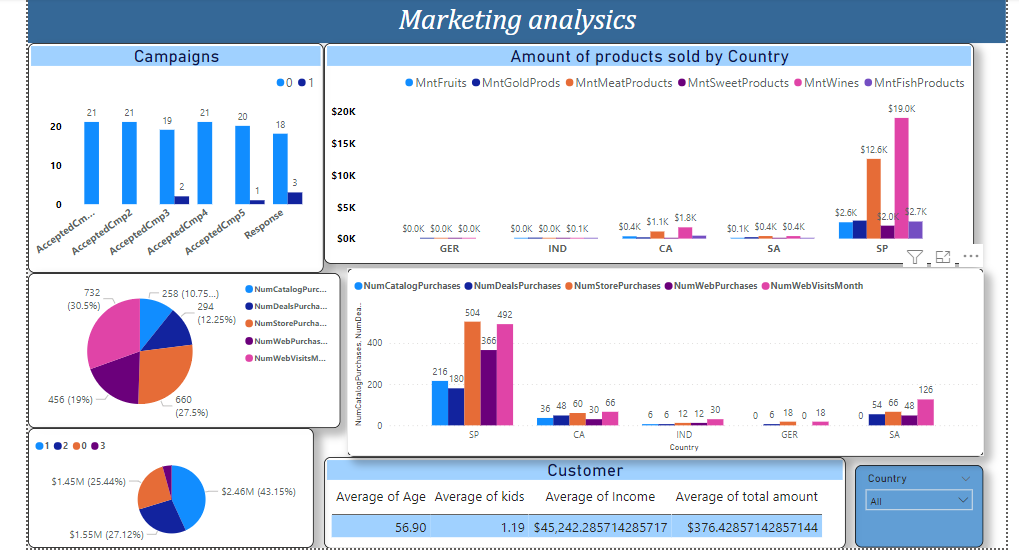

This screenshot's page, from the dashboard's own definition file:
{"tool":"powerbi","page":{"name":"Page 1","canvas":[1280,720],"ordinal":0},"visuals":[{"type":"textbox","box":[0,0,1280.2,59],"z":0},{"type":"clusteredColumnChart","title":"Campaigns","fields":{"Category":["market.Attribute"],"Y":["CountNonNull(market.Value)"],"Series":["market.Value"]},"box":[0,59,387.4,301],"z":1000},{"type":"tableEx","title":"Customer","fields":{"Values":["Avg(market.Age)","Avg(market.kids)","Avg(market.Income)","Avg(market.total amount)"]},"box":[387.4,600.5,682.6,119.5],"z":2000},{"type":"slicer","title":"Campaigns","fields":{"Values":["market.Country"]},"box":[1082.9,612,168.5,108],"z":3000},{"type":"clusteredColumnChart","title":"Amount of products sold by Country","fields":{"Category":["market.Country"],"Y":["Sum(market.MntFruits)","Sum(market.MntGoldProds)","Sum(market.MntMeatProducts)","Sum(market.MntSweetProducts)","Sum(market.MntWines)","Sum(market.MntFishProducts)"]},"box":[387.4,59,851,289.4],"z":4000},{"type":"pieChart","title":"Campaigns","fields":{"Y":["Sum(market.NumCatalogPurchases)","Sum(market.NumDealsPurchases)","Sum(market.NumStorePurchases)","Sum(market.NumWebPurchases)","Sum(market.NumWebVisitsMonth)"]},"box":[0,360,409,203],"z":5000},{"type":"clusteredColumnChart","title":"Campaigns","fields":{"Y":["Sum(market.NumCatalogPurchases)","Sum(market.NumDealsPurchases)","Sum(market.NumStorePurchases)","Sum(market.NumWebPurchases)","Sum(market.NumWebVisitsMonth)"],"Category":["market.Country"]},"box":[417,353,834,247],"z":6000},{"type":"pieChart","title":"Campaigns","fields":{"Y":["Sum(market.Income)"],"Category":["market.kids"]},"box":[0,563,374.4,157],"z":7000}]}

Visuals, with their boxes in screenshot pixels (x1, y1, x2, y2):
textbox: (left=24, top=0, right=996, bottom=42)
"Campaigns" clusteredColumnChart: (left=24, top=42, right=318, bottom=271)
"Customer" tableEx: (left=318, top=454, right=837, bottom=544)
"Campaigns" slicer: (left=847, top=462, right=975, bottom=544)
"Amount of products sold by Country" clusteredColumnChart: (left=318, top=42, right=965, bottom=262)
"Campaigns" pieChart: (left=24, top=271, right=335, bottom=425)
"Campaigns" clusteredColumnChart: (left=341, top=266, right=974, bottom=453)
"Campaigns" pieChart: (left=24, top=425, right=308, bottom=544)
